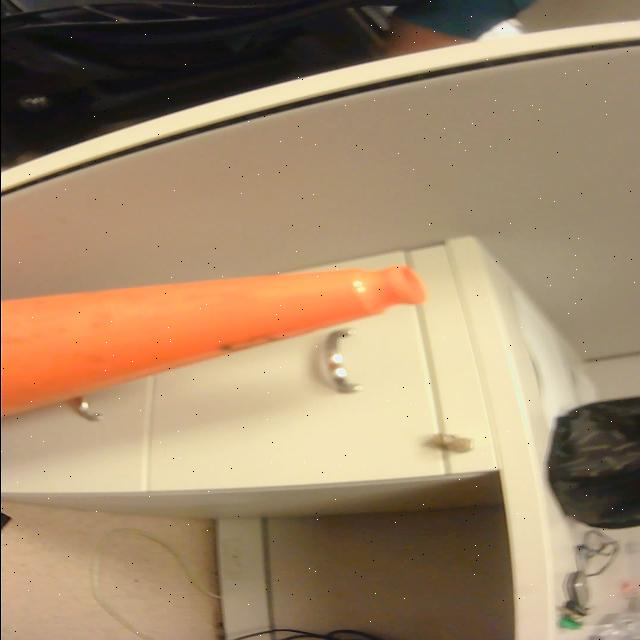traffic cone: (1, 260, 440, 434)
